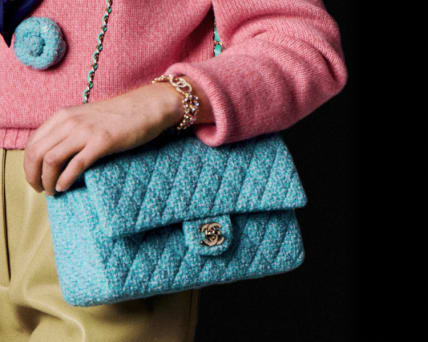channel: (46, 136, 311, 310), (195, 220, 237, 247)
